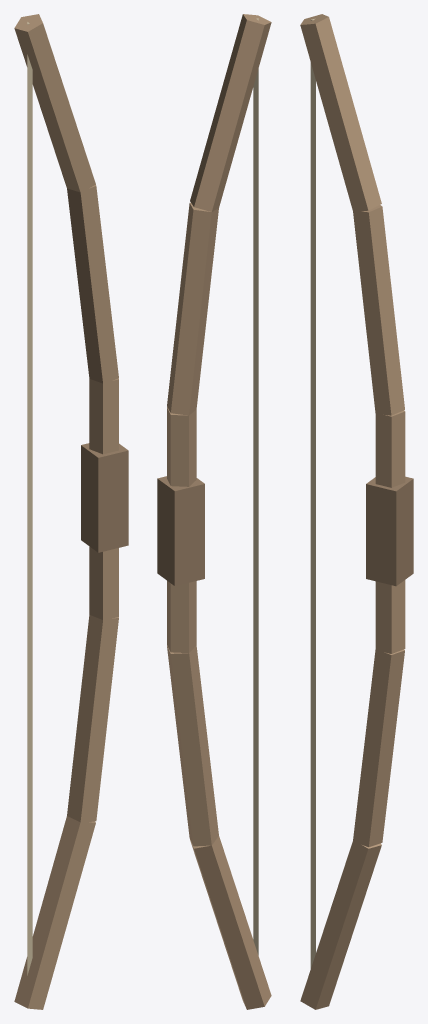
File: held_weapon_bow.glb
The picture shows the model from 3 angles, left to right: view 1: azimuth 30°, elevation 25°; view 2: azimuth 210°, elevation 25°; view 3: azimuth 330°, elevation 25°; orthographic projection.
Parts seen in each view (by area): view 1: held_weapon_bow; view 2: held_weapon_bow; view 3: held_weapon_bow.
Part boxes in pixels (<box>): held_weapon_bow: <box>14,14,128,1009</box>; held_weapon_bow: <box>157,14,271,1009</box>; held_weapon_bow: <box>300,14,413,1009</box>.
Size of the model in its own units: 0.1363 by 1.25 by 0.04.
